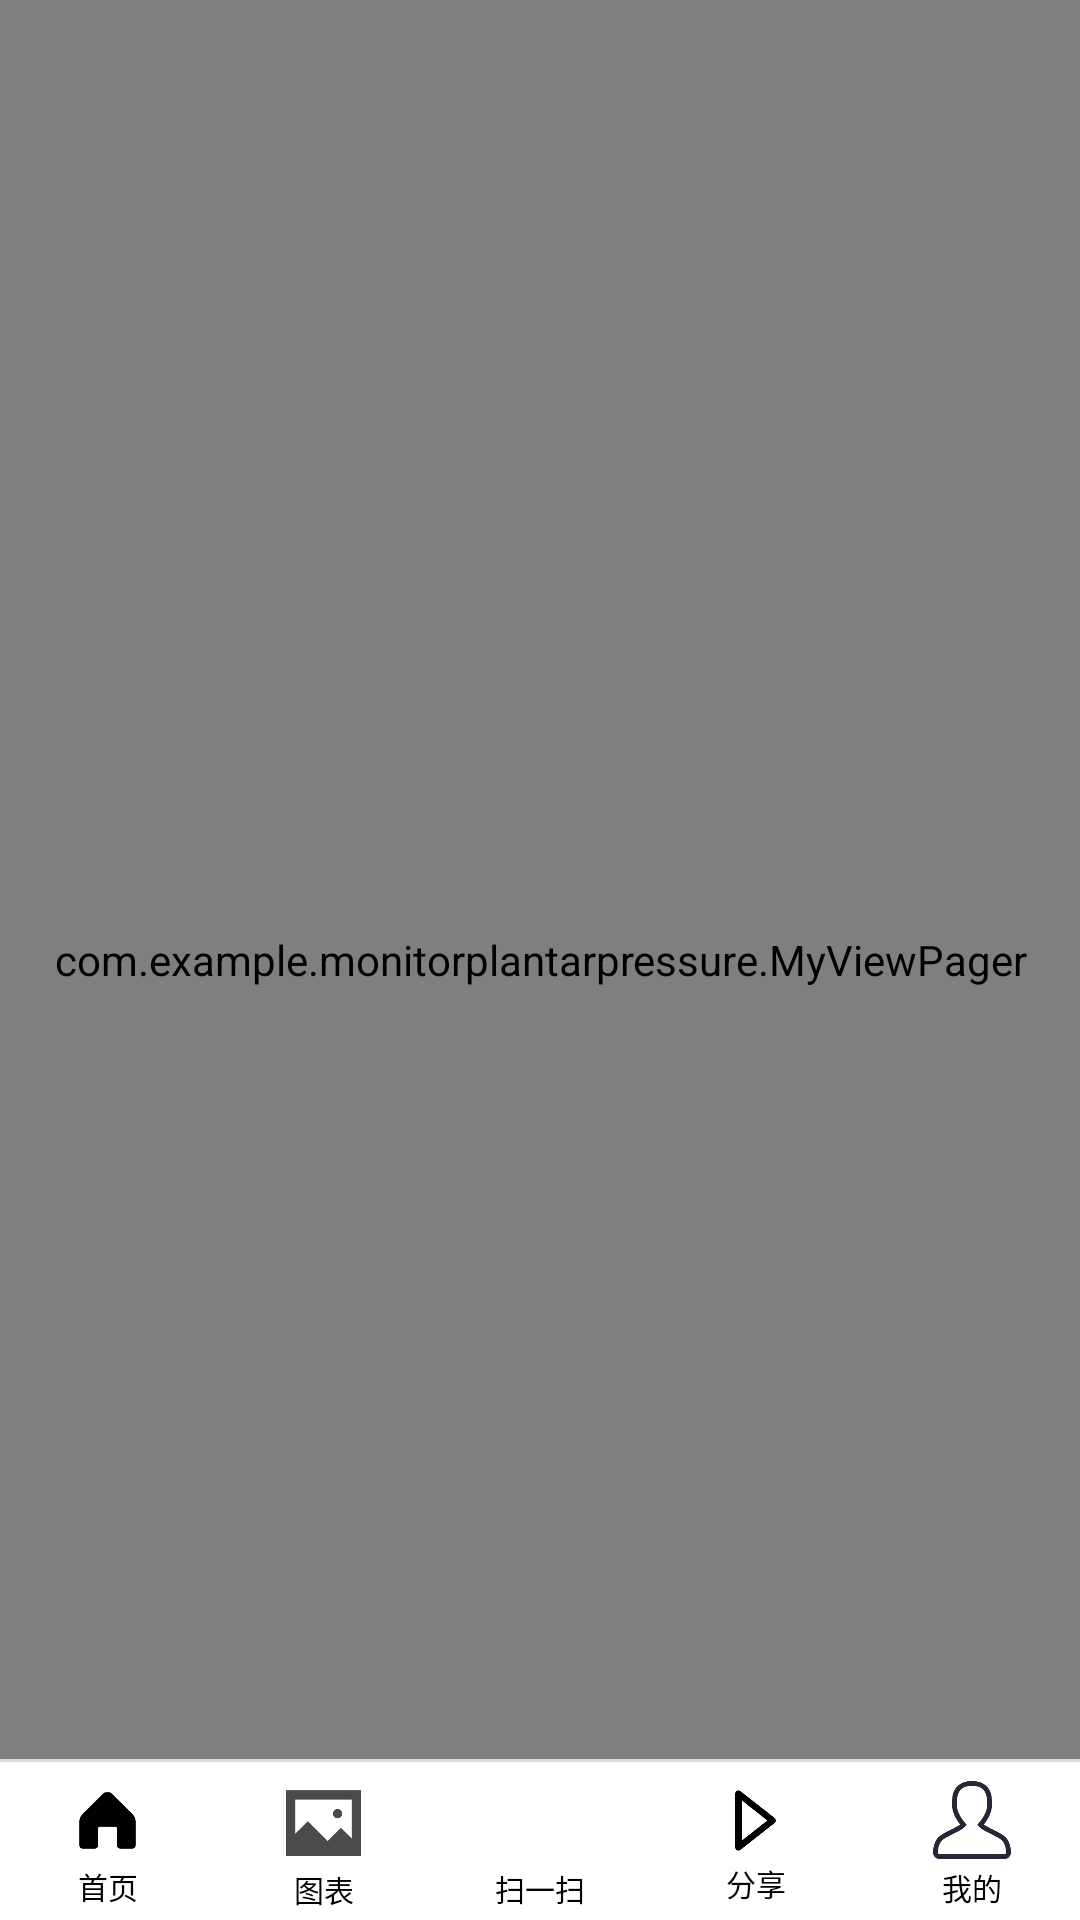

Icons on this 1080x1920 Android screen, each with its box as Rect(x1, y1, x2, y2):
play: Rect(735, 1790, 776, 1851)
user: Rect(933, 1781, 1011, 1859)
